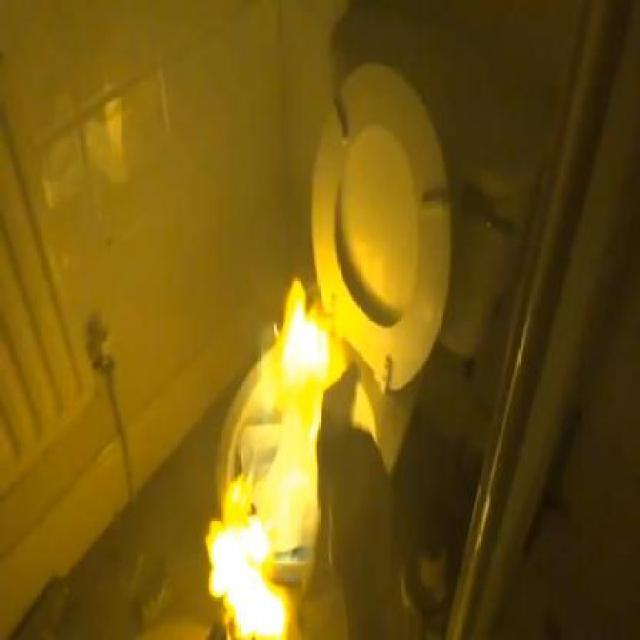Fire: (225, 262, 346, 418), (188, 466, 296, 640)
